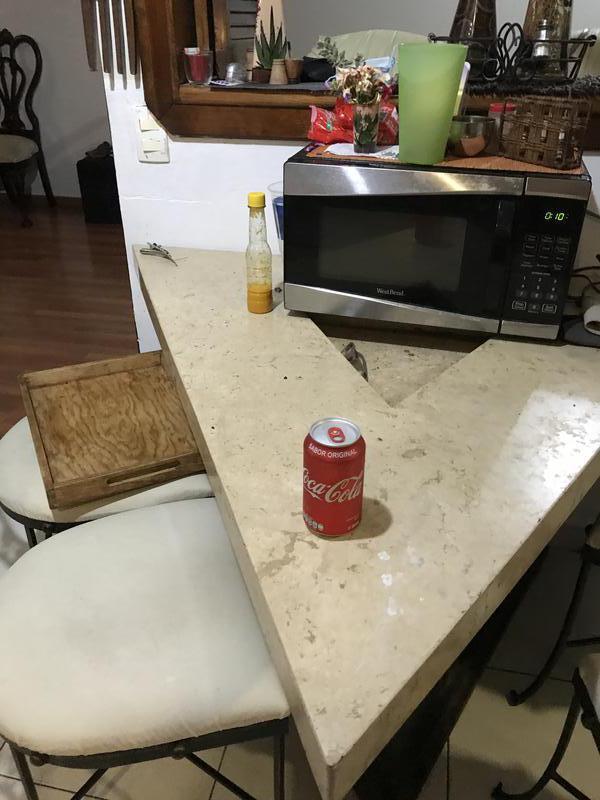coca_cola: (304, 417, 366, 540)
